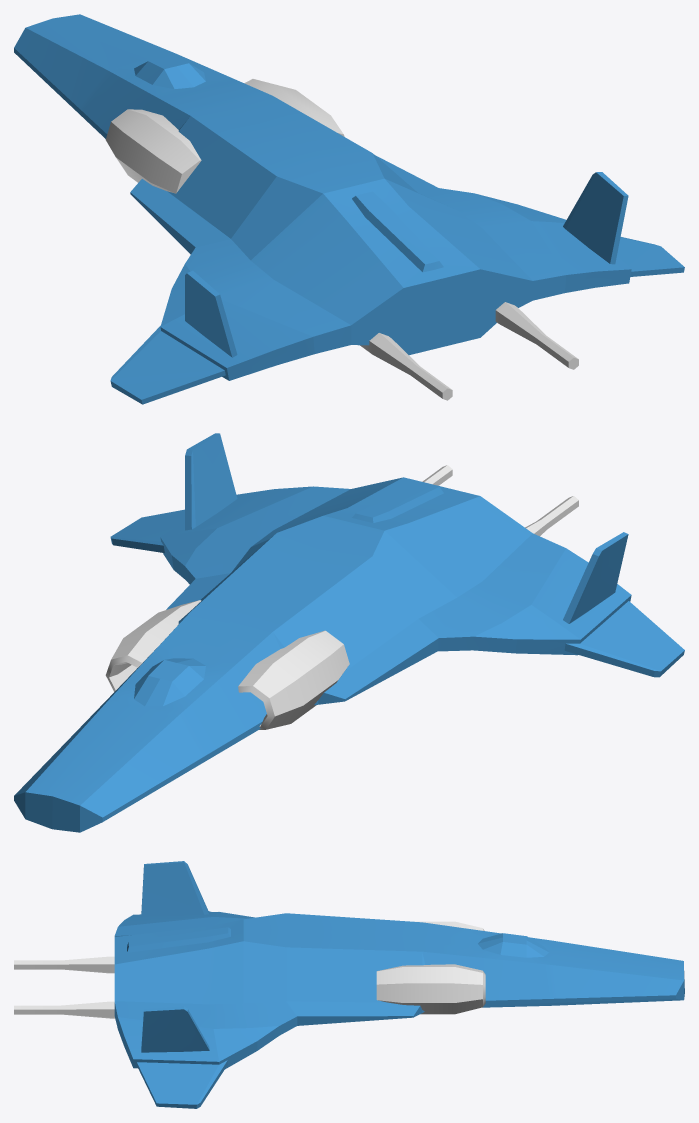
Rendered from sp3.glb.gltf.
The picture shows the model from 3 angles, top to bottom: view 1: azimuth 30°, elevation 25°; view 2: azimuth 150°, elevation 25°; view 3: azimuth 270°, elevation 25°; orthographic projection. The views are drawn at different scales.
Parts seen in each view (by area): view 1: Cube, Cube.004, Cube.005; view 2: Cube, Cube.004, Cube.005; view 3: Cube, Cube.004, Cube.005.
Boxes of the visible parts, bbox=[...] form: Cube: bbox=[14, 14, 684, 404]; Cube.004: bbox=[105, 79, 344, 193]; Cube.005: bbox=[360, 302, 578, 400]; Cube: bbox=[14, 433, 684, 832]; Cube.004: bbox=[105, 600, 349, 729]; Cube.005: bbox=[422, 465, 578, 536]; Cube: bbox=[114, 861, 684, 1108]; Cube.004: bbox=[376, 921, 485, 1014]; Cube.005: bbox=[14, 956, 114, 1018].
Bounding box in the file's own units: 13.88 × 2.73 × 20.01.
